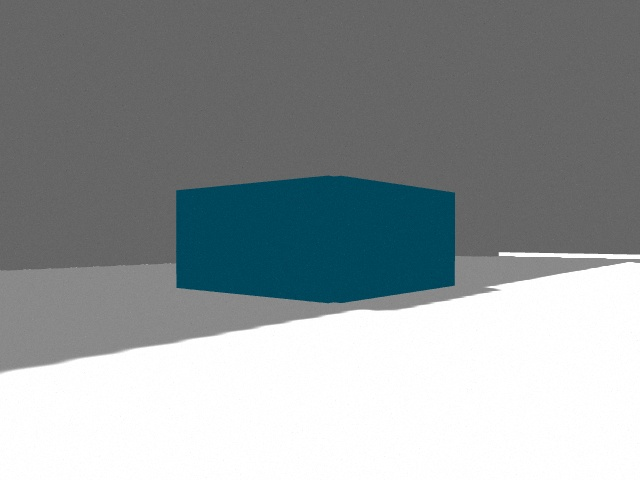blue_drop_zone: (176, 176, 455, 303)
